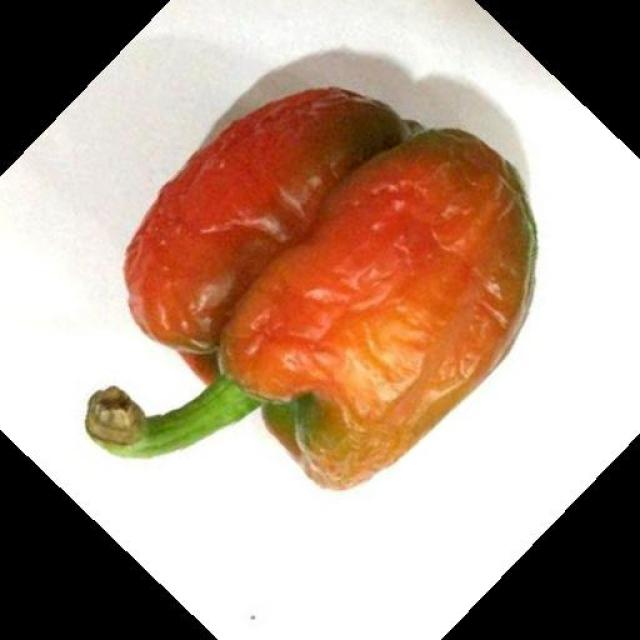Stale_Capsicum: (128, 69, 544, 488)
